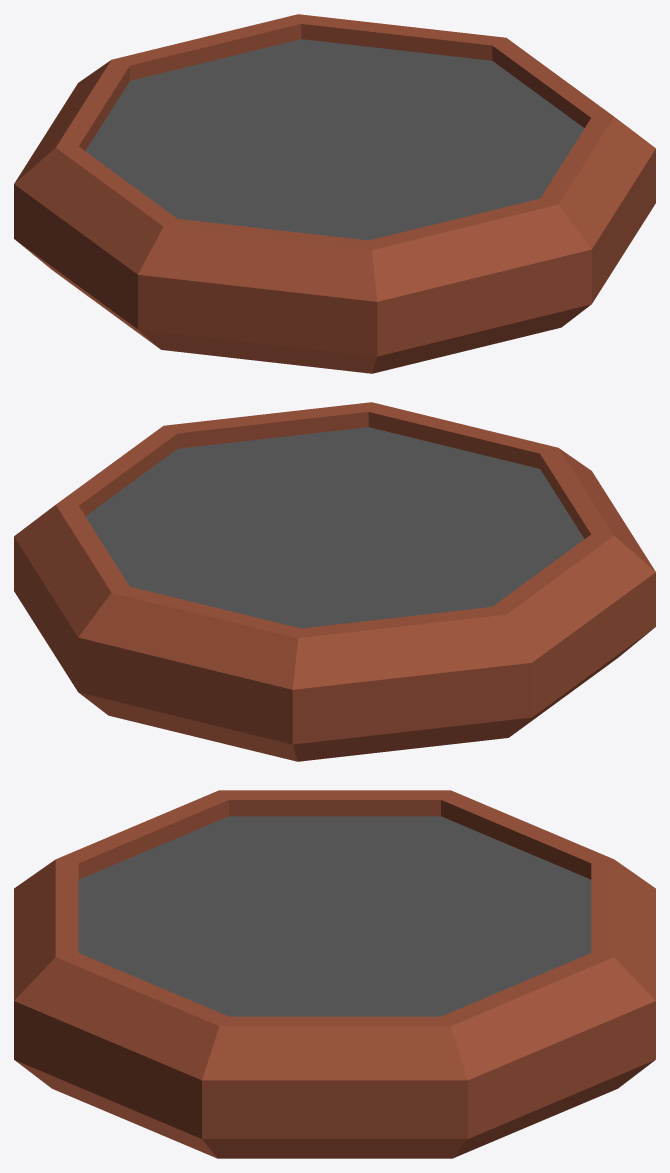
File: checker1.fbx
3 renders of one model, top to bottom at view 1: azimuth 30°, elevation 25°; view 2: azimuth 150°, elevation 25°; view 3: azimuth 270°, elevation 25°, orthographic. The views are drawn at different scales.
Parts seen in each view (by area): view 1: Cylinder_8; view 2: Cylinder_8; view 3: Cylinder_8.
Boxes of the visible parts, box(x1,y1,x2,y2) form: Cylinder_8: box(14, 14, 655, 373); Cylinder_8: box(14, 402, 655, 761); Cylinder_8: box(14, 790, 655, 1158).
Size of the model in its own units: 126 by 28.32 by 126.
